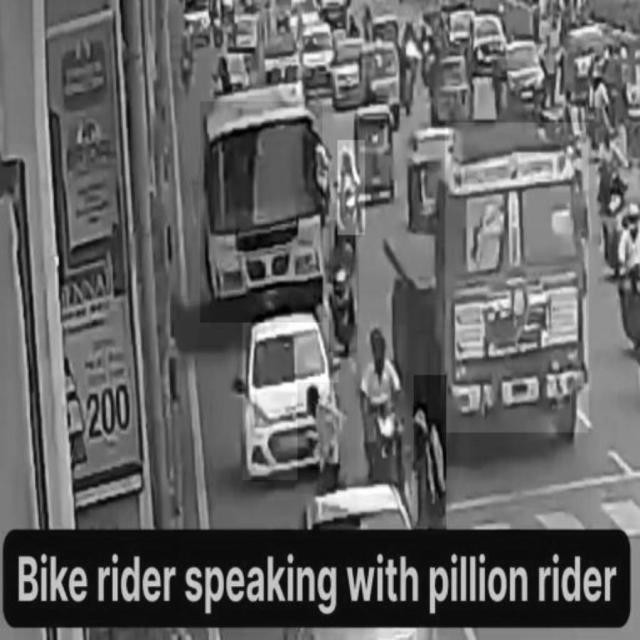person: (297, 383, 345, 494), (414, 375, 446, 529)
vehicle: (445, 122, 589, 433), (200, 102, 322, 323), (243, 318, 339, 480), (358, 325, 408, 509), (329, 220, 359, 352), (338, 140, 365, 234)
